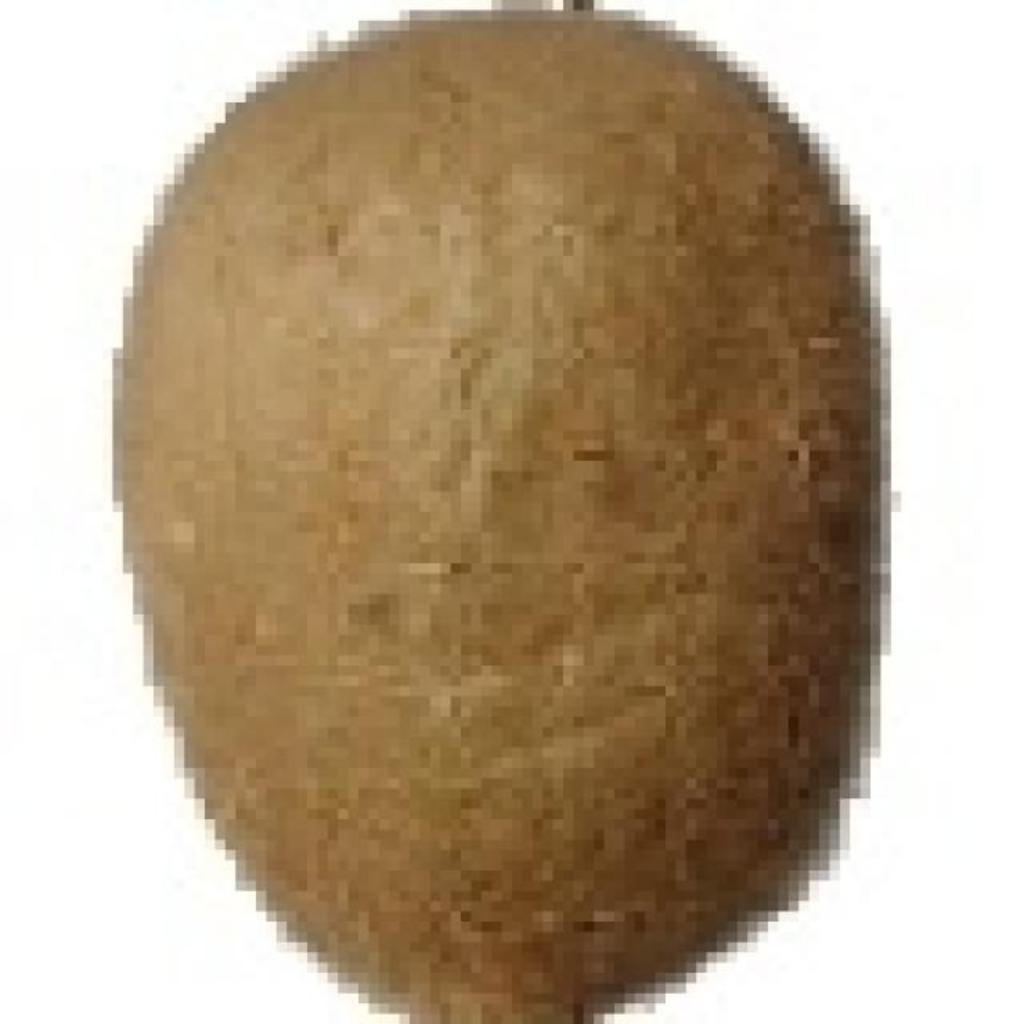kiwi: (113, 10, 860, 1004)
